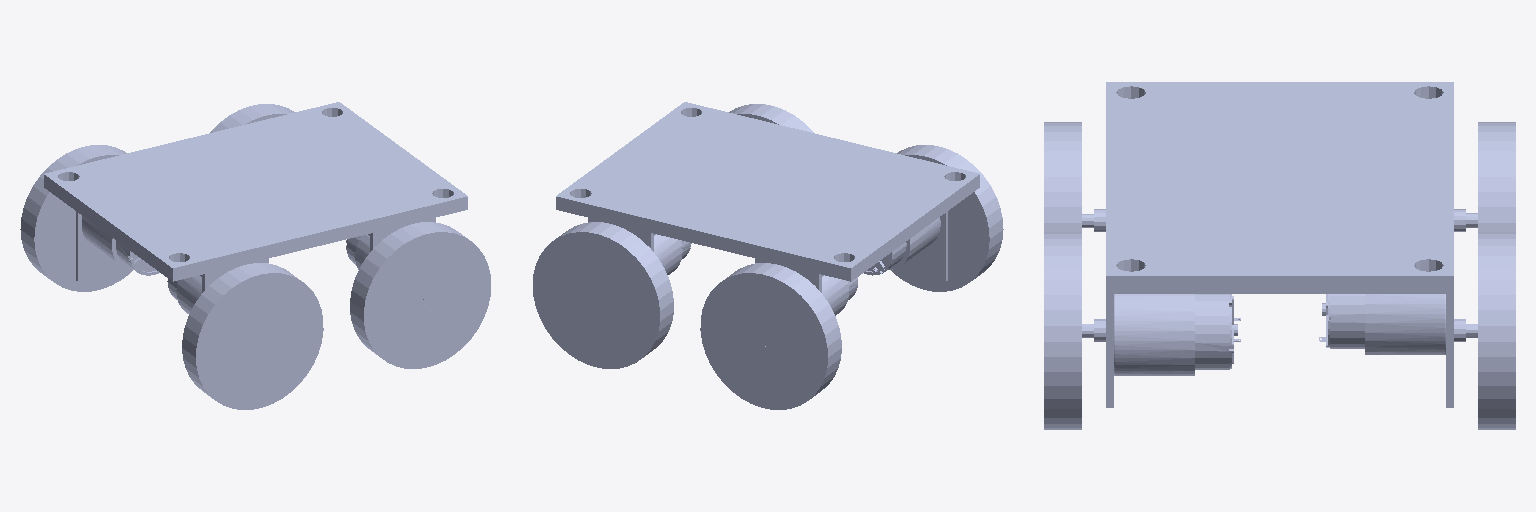
The robot description file, URDF, robot "robot_description_screen":
<?xml version="1.0" encoding="utf-8"?>
<!-- This URDF was automatically created by SolidWorks to URDF Exporter! Originally created by [author] ([email redacted]) 
     Commit Version: 1.5.1-0-g916b5db  Build Version: 1.5.7152.31018
     For more information, please see http://wiki.ros.org/sw_urdf_exporter -->
<robot
  name="robot_description_screen">
  <link
    name="base_link">
    <inertial>
      <origin
        xyz="0.00101439548244005 -1.77195097993574E-17 -0.011717890229166"
        rpy="0 0 0" />
      <mass
        value="0.445603187138702" />
      <inertia
        ixx="0.000414770751662671"
        ixy="-3.75250843783372E-07"
        ixz="-5.1747764846468E-08"
        iyy="0.00062963996325537"
        iyz="2.01837634386174E-07"
        izz="0.000973911042109958" />
    </inertial>
    <visual>
      <origin
        xyz="0 0 0"
        rpy="0 0 0" />
      <geometry>
        <mesh
          filename="package://robot_description_screen/meshes/base_link.STL" />
      </geometry>
      <material
        name="">
        <color
          rgba="0.792156862745098 0.819607843137255 0.933333333333333 1" />
      </material>
    </visual>
    <collision>
      <origin
        xyz="0 0 0"
        rpy="0 0 0" />
      <geometry>
        <mesh
          filename="package://robot_description_screen/meshes/base_link.STL" />
      </geometry>
    </collision>
  </link>
  <link
    name="front_lw">
    <inertial>
      <origin
        xyz="0.0525000000000001 0.0875 -0.0349999999999999"
        rpy="0 0 0" />
      <mass
        value="7.50019117729047E-05" />
      <inertia
        ixx="3.15647420744064E-08"
        ixy="6.12375246774608E-24"
        ixz="5.07876456086628E-24"
        iyy="6.03169124573288E-08"
        iyz="1.05300091978E-24"
        izz="3.15647420744064E-08" />
    </inertial>
    <visual>
      <origin
        xyz="0 0 0"
        rpy="0 0 0" />
      <geometry>
        <mesh
          filename="package://robot_description_screen/meshes/front_lw.STL" />
      </geometry>
      <material
        name="">
        <color
          rgba="0.792156862745098 0.819607843137255 0.933333333333333 1" />
      </material>
    </visual>
    <collision>
      <origin
        xyz="0 0 0"
        rpy="0 0 0" />
      <geometry>
        <mesh
          filename="package://robot_description_screen/meshes/front_lw.STL" />
      </geometry>
    </collision>
  </link>
  <joint
    name="front_lj"
    type="revolute">
    <origin
      xyz="0 0 0"
      rpy="0 0 0" />
    <parent
      link="base_link" />
    <child
      link="front_lw" />
    <axis
      xyz="0 1 0" />
    <limit
      lower="0"
      upper="0"
      effort="0"
      velocity="0" />
  </joint>
  <link
    name="front_rw">
    <inertial>
      <origin
        xyz="0.0525000000000001 -0.0875 -0.0349999999999998"
        rpy="0 0 0" />
      <mass
        value="7.50019117729047E-05" />
      <inertia
        ixx="3.15647420744064E-08"
        ixy="5.91282141154506E-24"
        ixz="5.932414953021E-24"
        iyy="6.03169124573288E-08"
        iyz="2.05967972525702E-25"
        izz="3.15647420744064E-08" />
    </inertial>
    <visual>
      <origin
        xyz="0 0 0"
        rpy="0 0 0" />
      <geometry>
        <mesh
          filename="package://robot_description_screen/meshes/front_rw.STL" />
      </geometry>
      <material
        name="">
        <color
          rgba="0.792156862745098 0.819607843137255 0.933333333333333 1" />
      </material>
    </visual>
    <collision>
      <origin
        xyz="0 0 0"
        rpy="0 0 0" />
      <geometry>
        <mesh
          filename="package://robot_description_screen/meshes/front_rw.STL" />
      </geometry>
    </collision>
  </link>
  <joint
    name="front_rj"
    type="revolute">
    <origin
      xyz="0 0 0"
      rpy="0 0 0" />
    <parent
      link="base_link" />
    <child
      link="front_rw" />
    <axis
      xyz="0 -1 0" />
    <limit
      lower="0"
      upper="0"
      effort="0"
      velocity="0" />
  </joint>
  <link
    name="rear_lw">
    <inertial>
      <origin
        xyz="-0.0524999999999999 0.0875 -0.035"
        rpy="0 0 0" />
      <mass
        value="7.50019117729047E-05" />
      <inertia
        ixx="3.15647420744064E-08"
        ixy="5.48351467363004E-24"
        ixz="-8.60418086658598E-25"
        iyy="6.03169124573289E-08"
        iyz="2.08449514363363E-25"
        izz="3.15647420744064E-08" />
    </inertial>
    <visual>
      <origin
        xyz="0 0 0"
        rpy="0 0 0" />
      <geometry>
        <mesh
          filename="package://robot_description_screen/meshes/rear_lw.STL" />
      </geometry>
      <material
        name="">
        <color
          rgba="0.792156862745098 0.819607843137255 0.933333333333333 1" />
      </material>
    </visual>
    <collision>
      <origin
        xyz="0 0 0"
        rpy="0 0 0" />
      <geometry>
        <mesh
          filename="package://robot_description_screen/meshes/rear_lw.STL" />
      </geometry>
    </collision>
  </link>
  <joint
    name="rear_lj"
    type="revolute">
    <origin
      xyz="0 0 0"
      rpy="0 0 0" />
    <parent
      link="base_link" />
    <child
      link="rear_lw" />
    <axis
      xyz="0 1 0" />
    <limit
      lower="0"
      upper="0"
      effort="0"
      velocity="0" />
  </joint>
  <link
    name="rear_rw">
    <inertial>
      <origin
        xyz="-0.0525000000000001 -0.0875 -0.0349999999999999"
        rpy="0 0 0" />
      <mass
        value="7.50019117729047E-05" />
      <inertia
        ixx="3.15647420744064E-08"
        ixy="5.69527291044362E-24"
        ixz="1.68729820000473E-24"
        iyy="6.03169124573289E-08"
        iyz="2.08449514363362E-25"
        izz="3.15647420744064E-08" />
    </inertial>
    <visual>
      <origin
        xyz="0 0 0"
        rpy="0 0 0" />
      <geometry>
        <mesh
          filename="package://robot_description_screen/meshes/rear_rw.STL" />
      </geometry>
      <material
        name="">
        <color
          rgba="0.792156862745098 0.819607843137255 0.933333333333333 1" />
      </material>
    </visual>
    <collision>
      <origin
        xyz="0 0 0"
        rpy="0 0 0" />
      <geometry>
        <mesh
          filename="package://robot_description_screen/meshes/rear_rw.STL" />
      </geometry>
    </collision>
  </link>
  <joint
    name="rear_rj"
    type="revolute">
    <origin
      xyz="0 0 0"
      rpy="0 0 0" />
    <parent
      link="base_link" />
    <child
      link="rear_rw" />
    <axis
      xyz="0 -1 0" />
    <limit
      lower="0"
      upper="0"
      effort="0"
      velocity="0" />
  </joint>
</robot>

--- What the picture shows (computed from the rendered views, not written in the file) ---
Views: 3 orthographic renders of the robot side by side, from view 1: azimuth 30°, elevation 25°; view 2: azimuth 150°, elevation 25°; view 3: azimuth 270°, elevation 25°.
Model robot_description_screen with 5 links and 4 joints (4 revolute), rooted at base_link, posed all joints at 0.
Links seen in each view (by area): view 1: base_link, front_rw, rear_rw, rear_lw, front_lw; view 2: base_link, front_lw, rear_lw, rear_rw, front_rw; view 3: base_link, front_lw, front_rw, rear_lw, rear_rw.
Link boxes in pixels (x1,y1,x2,y2): base_link: [44, 102, 467, 346]; front_rw: [350, 222, 490, 368]; rear_rw: [182, 263, 323, 409]; rear_lw: [20, 145, 132, 291]; front_lw: [210, 104, 294, 132]; base_link: [556, 102, 979, 346]; front_lw: [533, 222, 673, 368]; rear_lw: [700, 263, 841, 409]; rear_rw: [891, 145, 1003, 291]; front_rw: [729, 104, 813, 132]; base_link: [1082, 82, 1477, 407]; front_lw: [1478, 232, 1515, 429]; front_rw: [1044, 232, 1081, 429]; rear_lw: [1478, 122, 1515, 231]; rear_rw: [1044, 122, 1081, 231].
Size in the robot's own frame: 0.185 by 0.19 by 0.083 metres.
5 mesh visuals loaded from 5 distinct referenced files (5 binary STL).